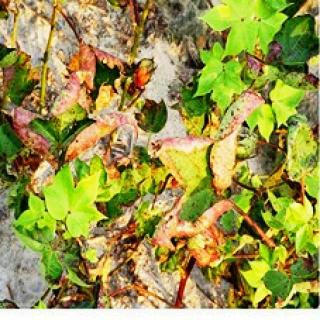wilt: (2, 44, 170, 184), (176, 91, 267, 187), (156, 199, 234, 267)
